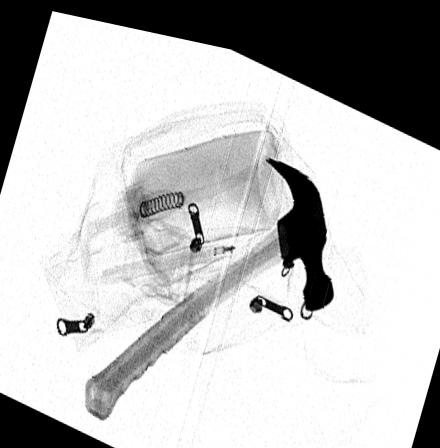Hammer: (83, 144, 335, 417)
